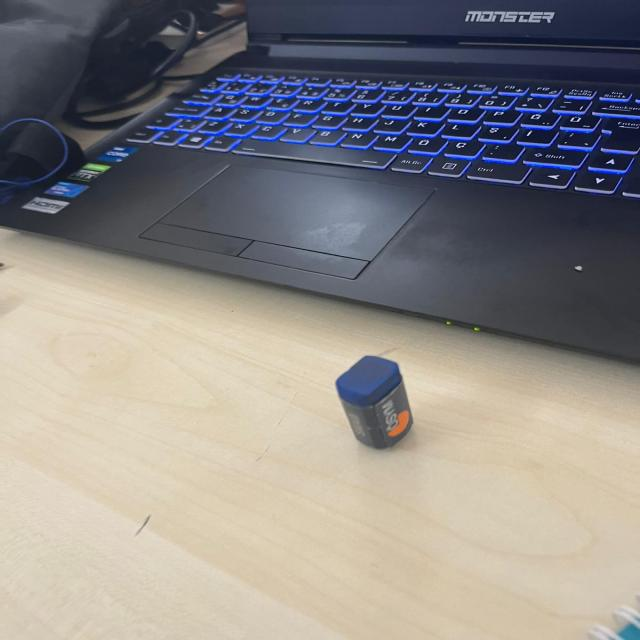eraser: (324, 349, 424, 456)
